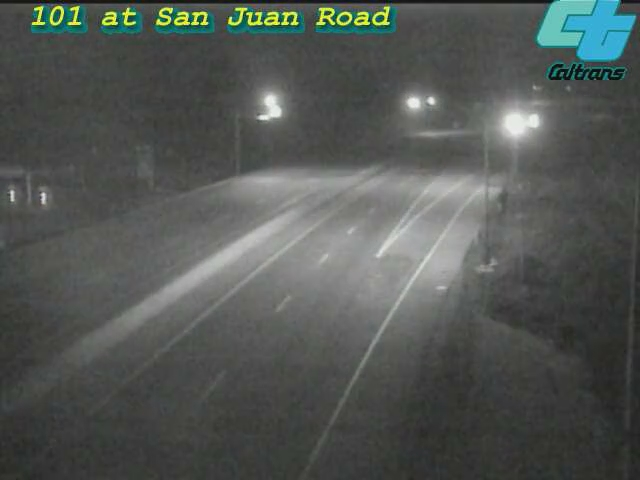vehicle: (486, 99, 536, 149), (509, 96, 559, 146)
